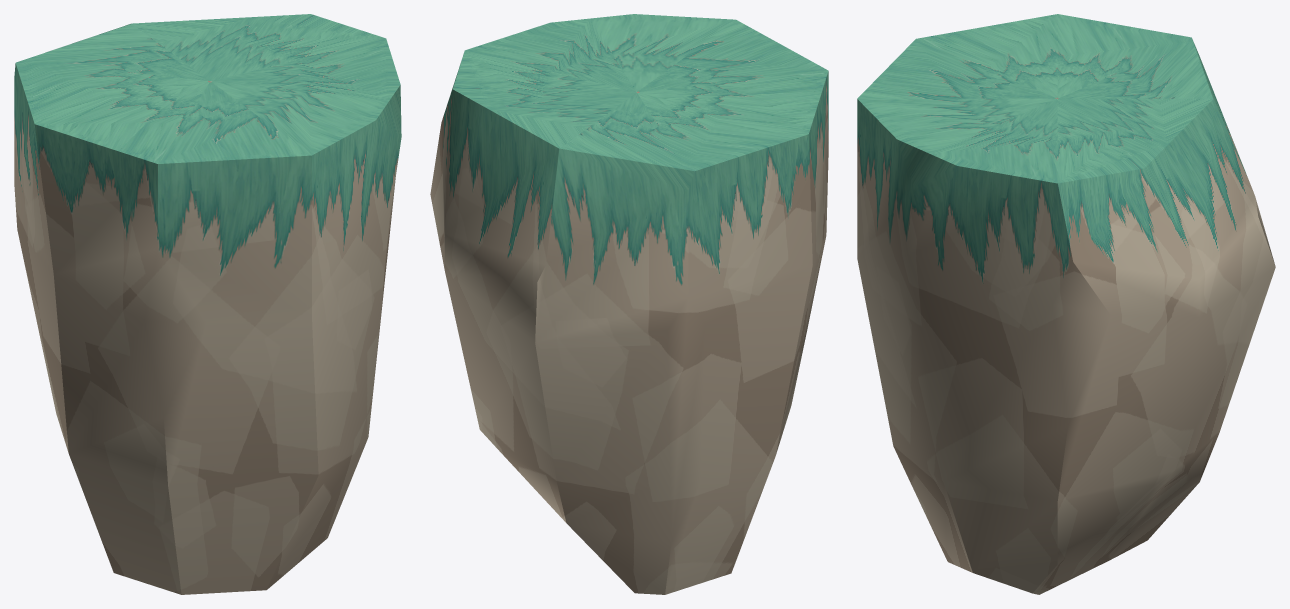
Rendered from Rock_Tall.fbx.
3 renders of one model, left to right at view 1: azimuth 30°, elevation 25°; view 2: azimuth 150°, elevation 25°; view 3: azimuth 270°, elevation 25°, orthographic. The views are drawn at different scales.
Visible parts, largest first — view 1: pCylinder1; view 2: pCylinder1; view 3: pCylinder1.
Part boxes in pixels (x1,y1,x2,y2): pCylinder1: (14, 14, 401, 594); pCylinder1: (430, 14, 828, 594); pCylinder1: (857, 14, 1275, 594).
Bounding box in the file's own units: 23.71 × 28.86 × 23.66.
